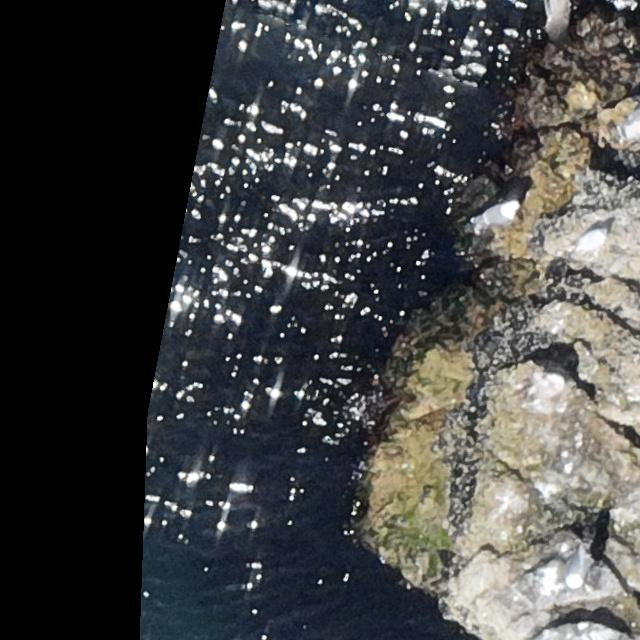umineko: (472, 199, 520, 230), (565, 546, 584, 590), (576, 231, 608, 254)
